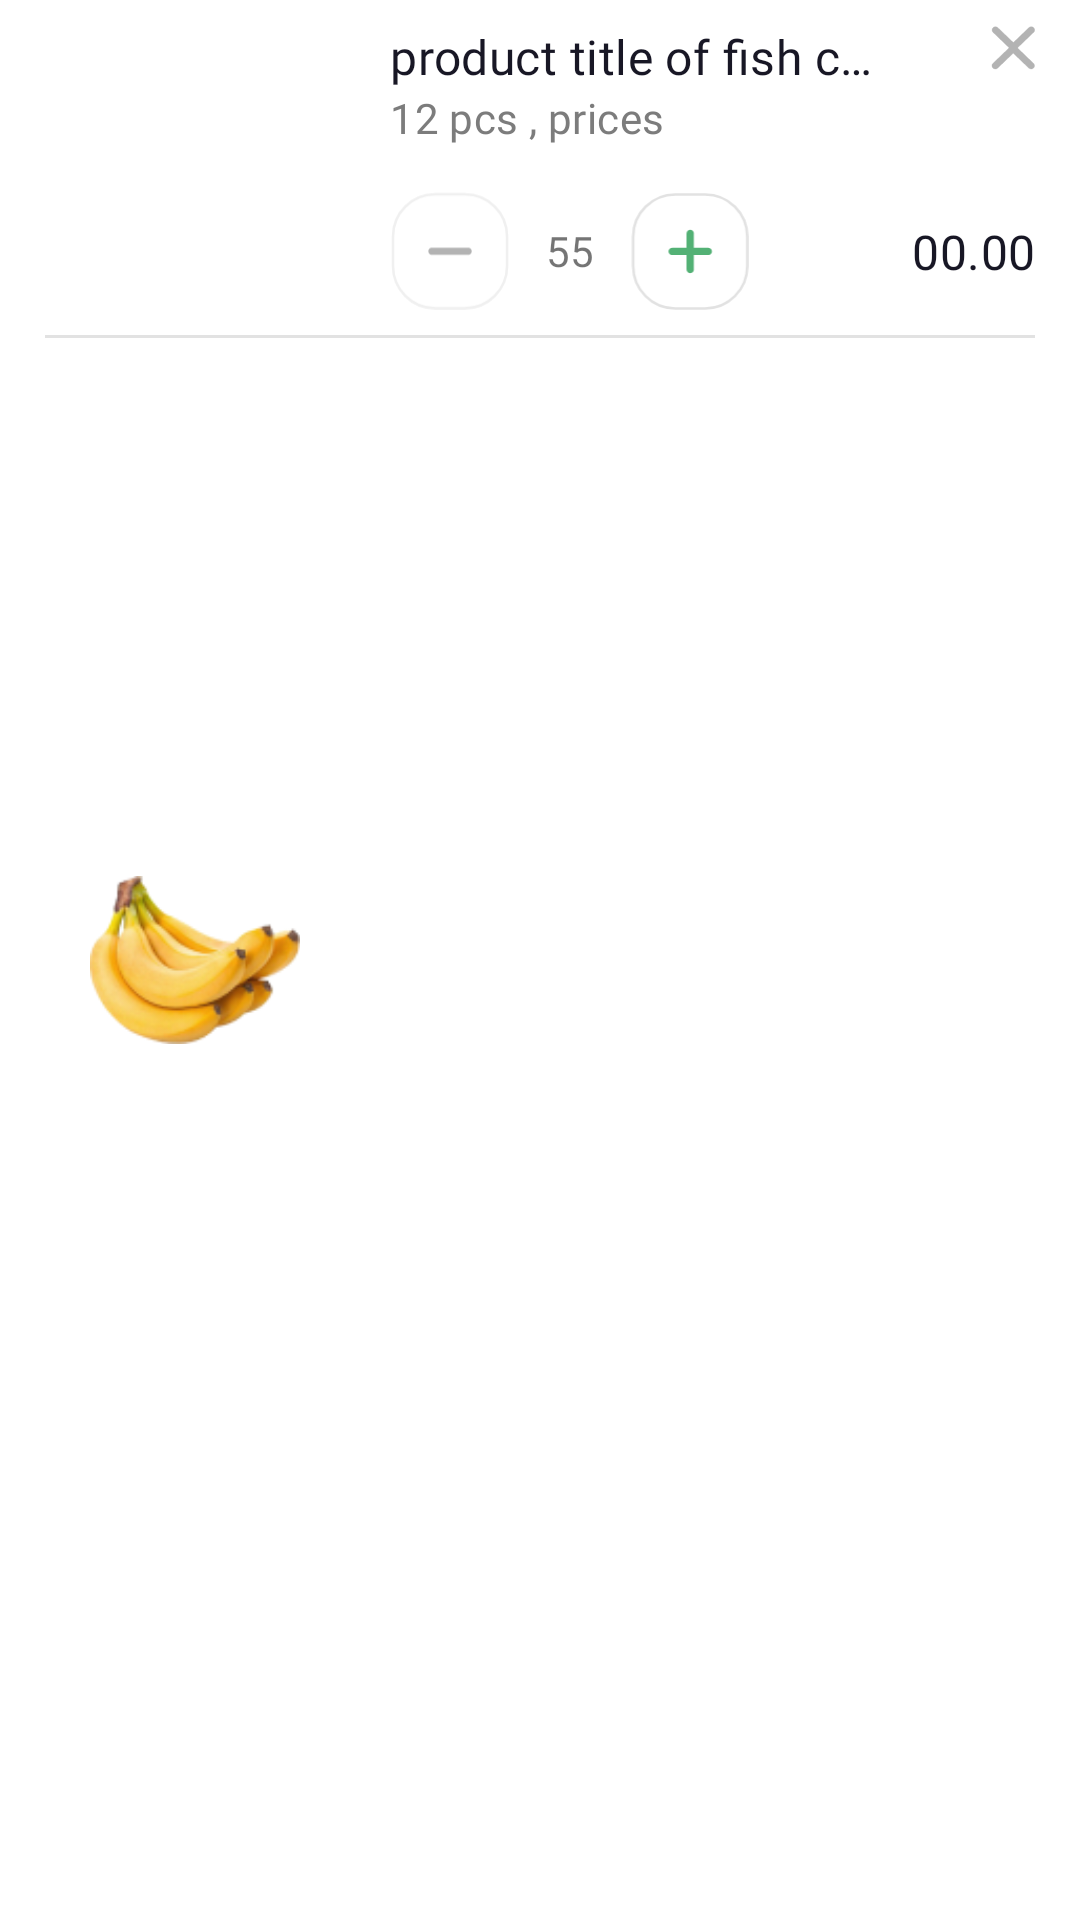

Icon click points for this 1080px x 1920px phone screenshot, format [x,y]:
banana: [195,960]
cross: [1013,47]
negative: [450,251]
plus: [690,251]
